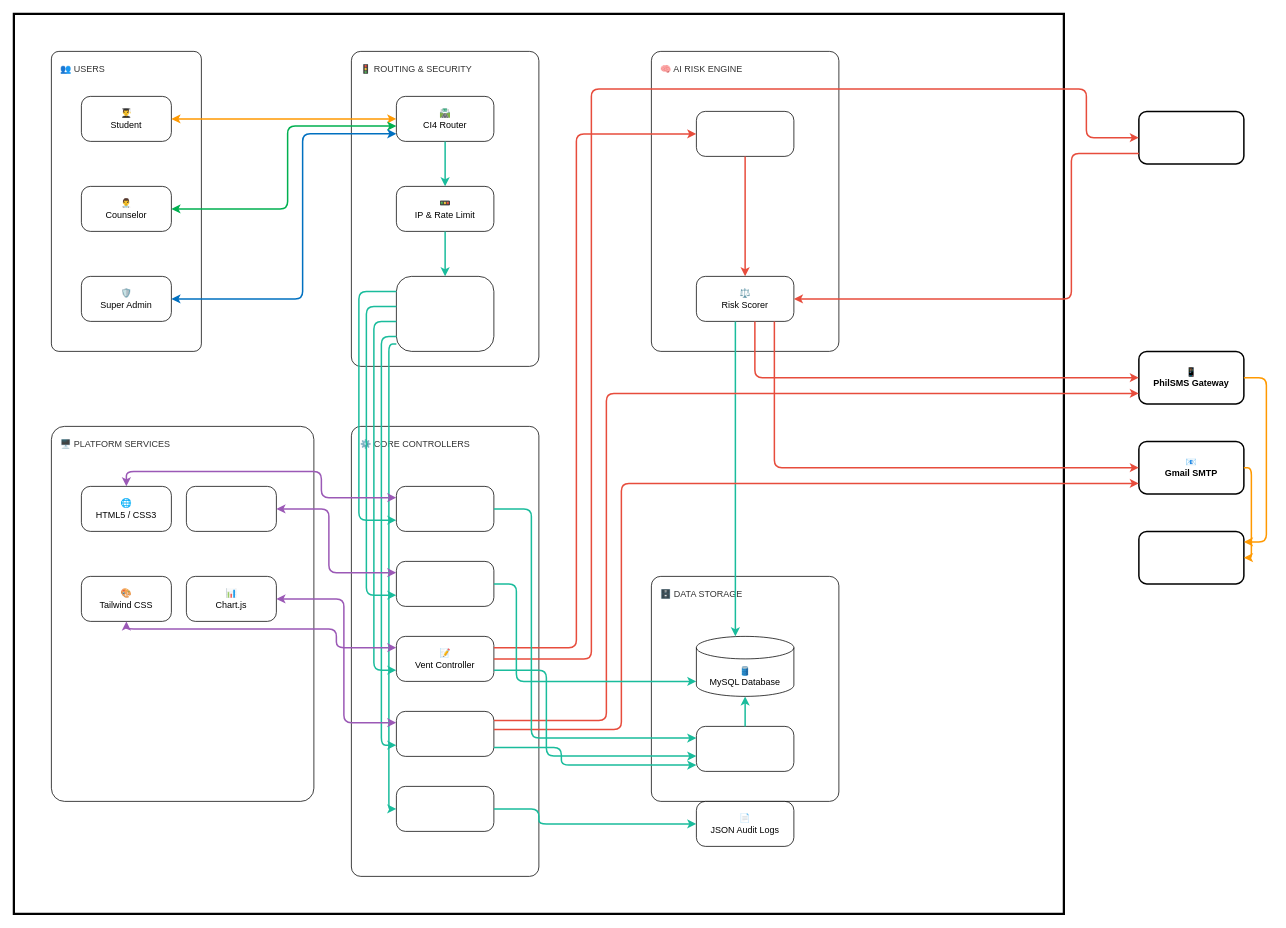
The diagram is 1286 pixels wide and 928 high, and some of its shapes have lost their labels. Here are the shapes that lost their labels. From the top down, the centre of each, then its label:
At pixel 745 133: "🔍 Local Keyword Eng".
At pixel 1191 137: "🤖 Hugging Face API".
At pixel 445 313: "🛂 AuthFilter (RBAC)".
At pixel 231 508: "⚡ JS & AJAX".
At pixel 445 508: "🔑 Auth Controller".
At pixel 1191 557: "👨‍👩‍👦 Parent".
At pixel 445 583: "🖥️ Dashboard Ctrl".
At pixel 445 733: "⚠️ Bully Controller".
At pixel 745 748: "🔒 AES-256 Crypto".
At pixel 445 808: "📋 Audit Logger".
